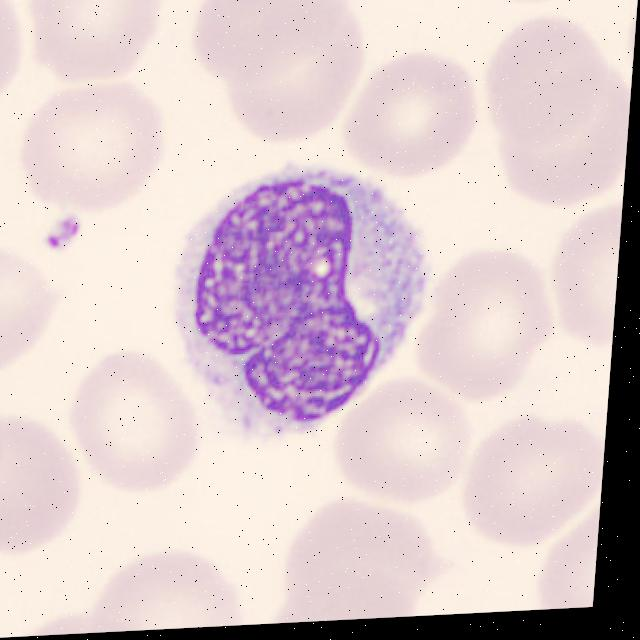monocyte: (162, 164, 450, 443)
platelets: (31, 206, 97, 258)
rbc: (14, 64, 176, 227), (223, 0, 374, 158), (406, 240, 548, 406), (449, 415, 604, 552), (496, 68, 629, 222), (79, 343, 211, 498), (275, 496, 435, 623), (479, 13, 611, 160), (324, 381, 475, 505), (81, 541, 252, 633), (345, 59, 470, 180), (23, 0, 187, 91), (192, 0, 345, 95), (0, 421, 77, 579), (527, 479, 602, 610), (0, 244, 64, 385), (0, 391, 16, 508)
